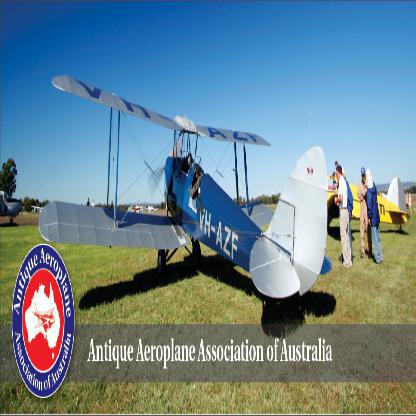CIV_Plane: (35, 50, 328, 313), (332, 161, 408, 246)
